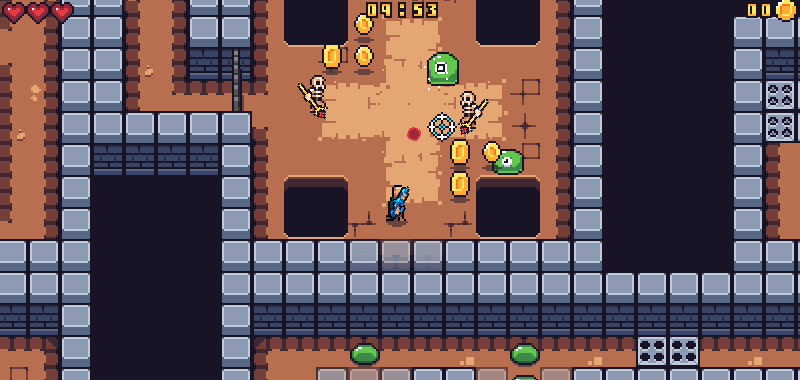enemy_skeleton: (294, 72, 330, 120), (456, 86, 488, 134)
enemy_skeleton_shoot: (403, 125, 423, 142)
enemy_slug: (346, 341, 384, 367), (507, 341, 542, 365)
enemy_slug_big: (426, 50, 459, 85), (492, 144, 527, 176)
gold: (319, 44, 343, 71), (447, 171, 471, 198), (448, 137, 470, 166), (353, 45, 374, 69), (479, 139, 498, 164), (353, 12, 374, 34)
trap_door: (226, 41, 247, 122)
trap_off: (764, 78, 800, 142), (637, 333, 699, 366)
